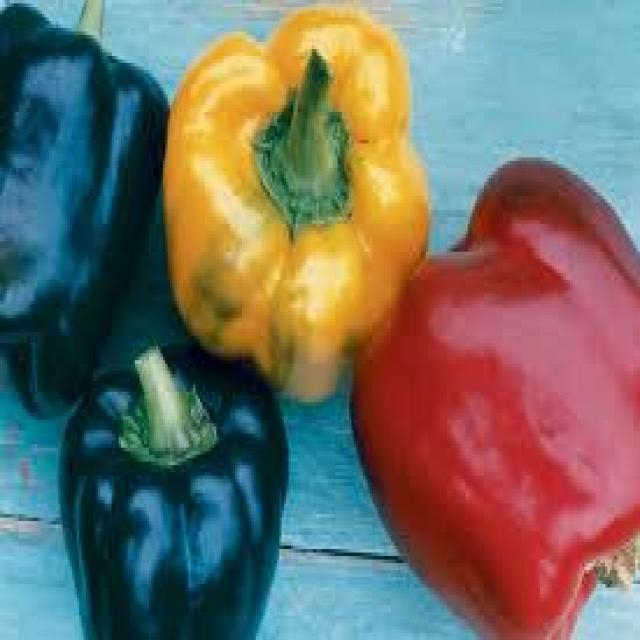Pepper: (349, 157, 640, 640), (161, 5, 432, 406), (0, 3, 170, 429), (59, 331, 289, 640)
